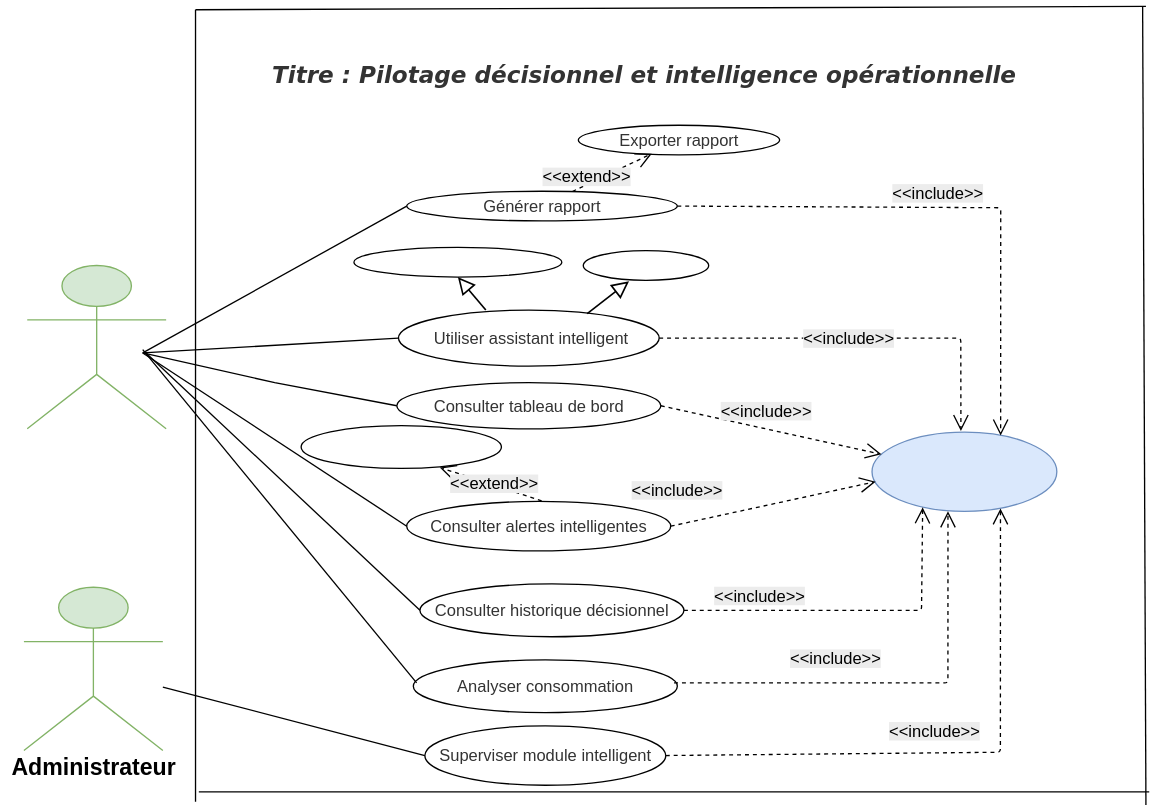
This 1156x811 diagram has some shape labels left out. The box of each missing label's shape, as (x1, y1, x2, y2) in pixels:
Demander recommandation: (353, 247, 562, 278)
Poser question: (582, 250, 709, 281)
RESPONSABLE: (26, 265, 167, 429)
S'authentifier: (871, 431, 1057, 512)
Traiter alerte: (300, 425, 502, 469)
